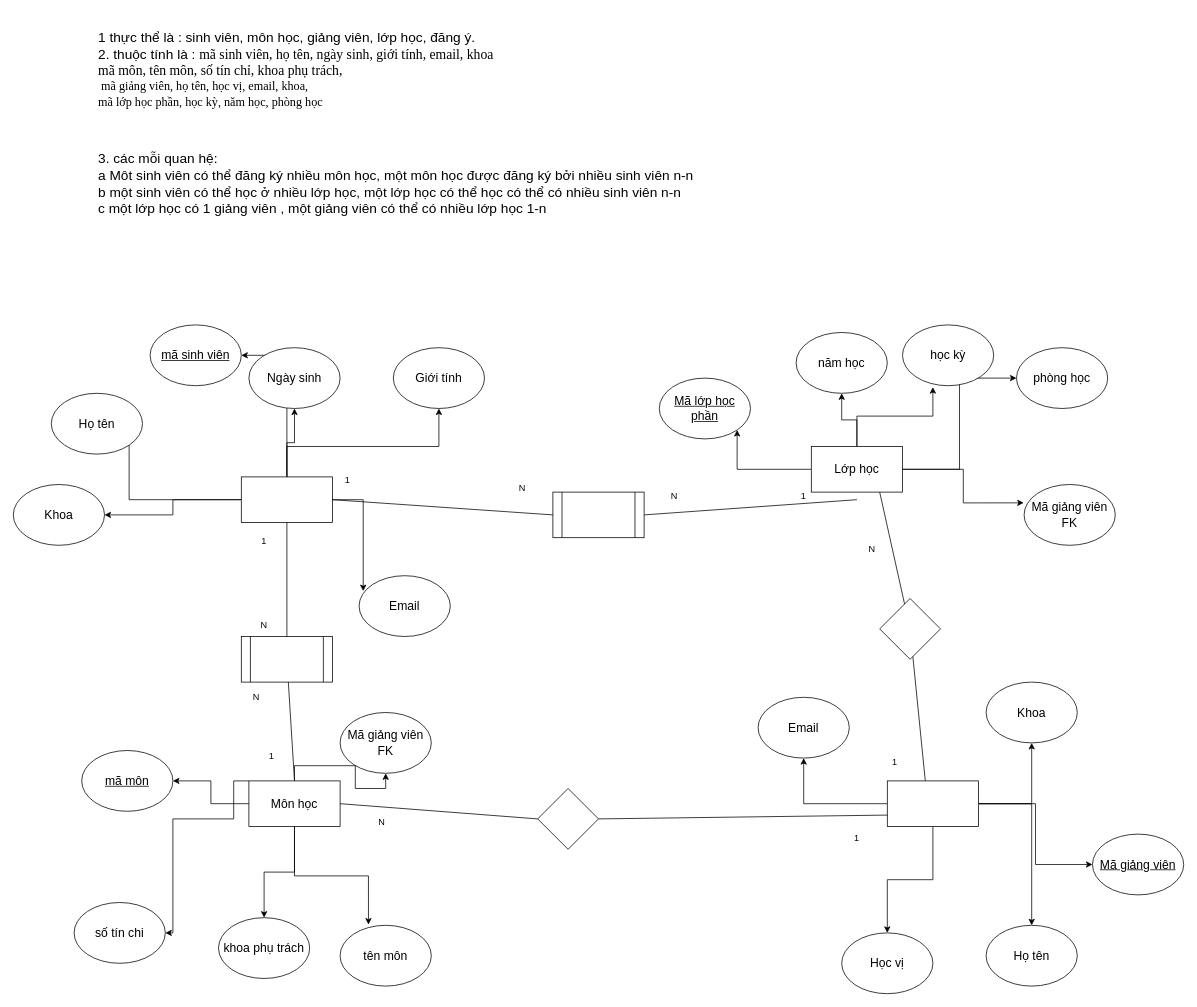
This 1197x1007 diagram has some shape labels left out. Each missing label, with the centre of its shape:
"Có" belongs at point (909, 628).
"Giảng viên" belongs at point (932, 803).
"Học" belongs at point (598, 514).
"Phụ trách" belongs at point (567, 818).
"sinh viên" belongs at point (286, 499).
"Đăng ký" belongs at point (286, 659).
